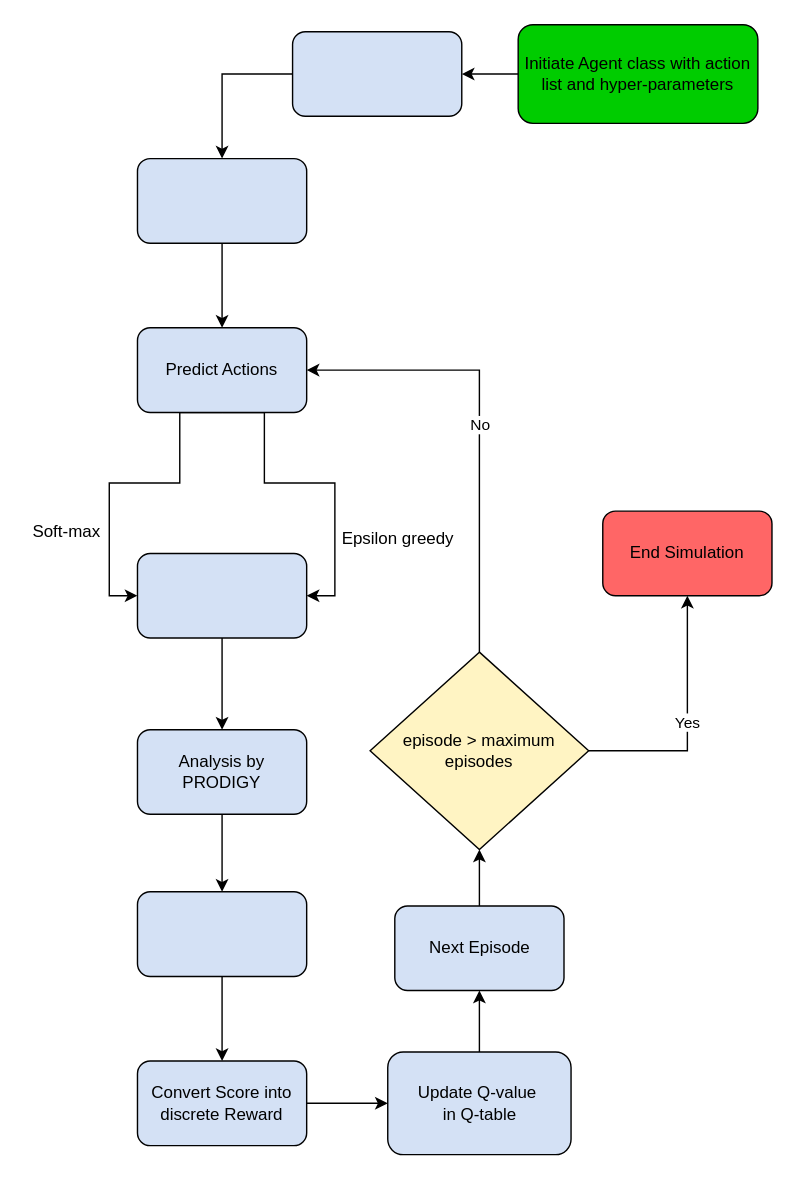
This 797x1180 diagram has some shape labels left out. The shapes that lost their labels are listed below. From the top down, each one's box as (x1, y1, x2, y2) in pixels, then its label:
(291, 30, 462, 116): Initiate Q-table
(136, 157, 307, 243): Initiate simulation with starting state
(136, 552, 307, 638): Perform Action (PyMOL)
(136, 890, 307, 976): Assign Score
